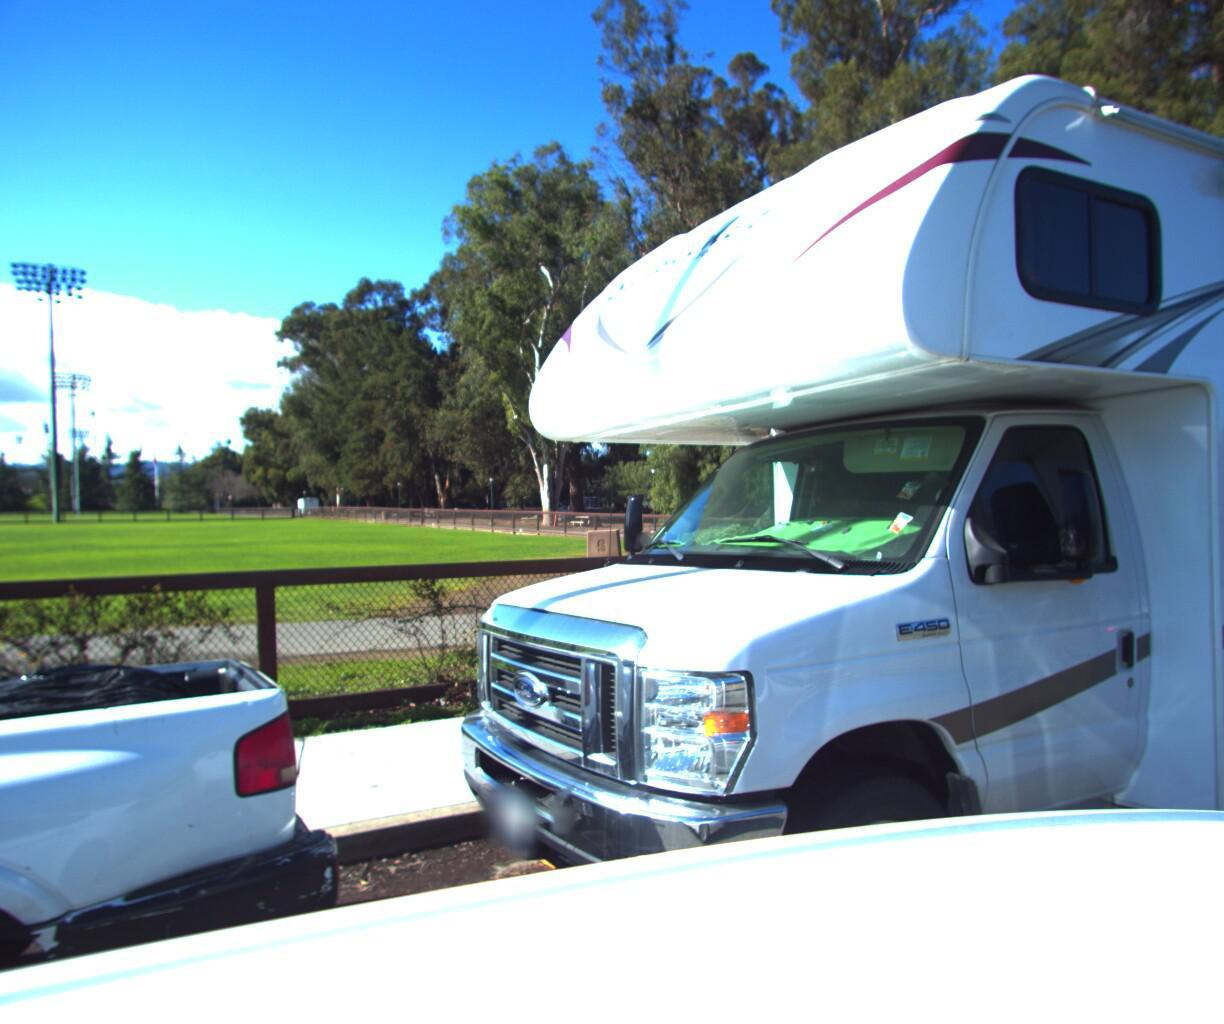other_vehicle: (378, 0, 1224, 1024)
